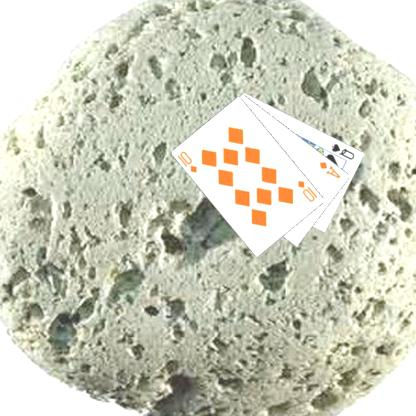10D: (174, 148, 198, 174), (295, 178, 319, 203)
AD: (317, 159, 342, 180)
QS: (329, 140, 356, 161)
